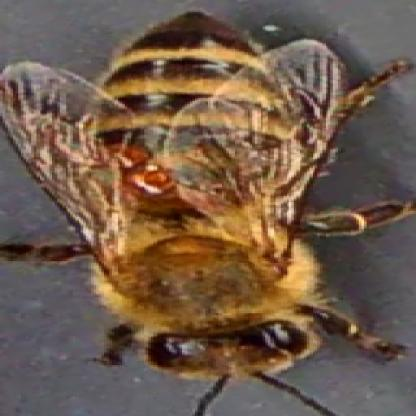bee: (85, 5, 341, 382)
vaoora: (108, 146, 153, 171), (138, 171, 176, 190)
